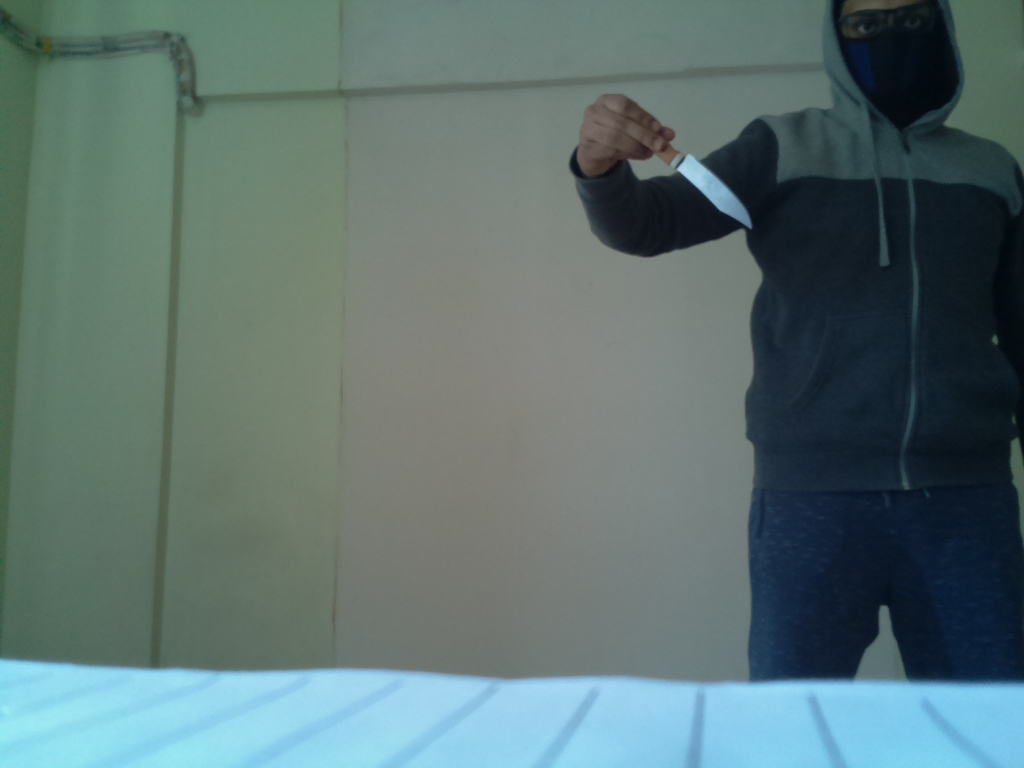knife: (624, 122, 764, 240)
